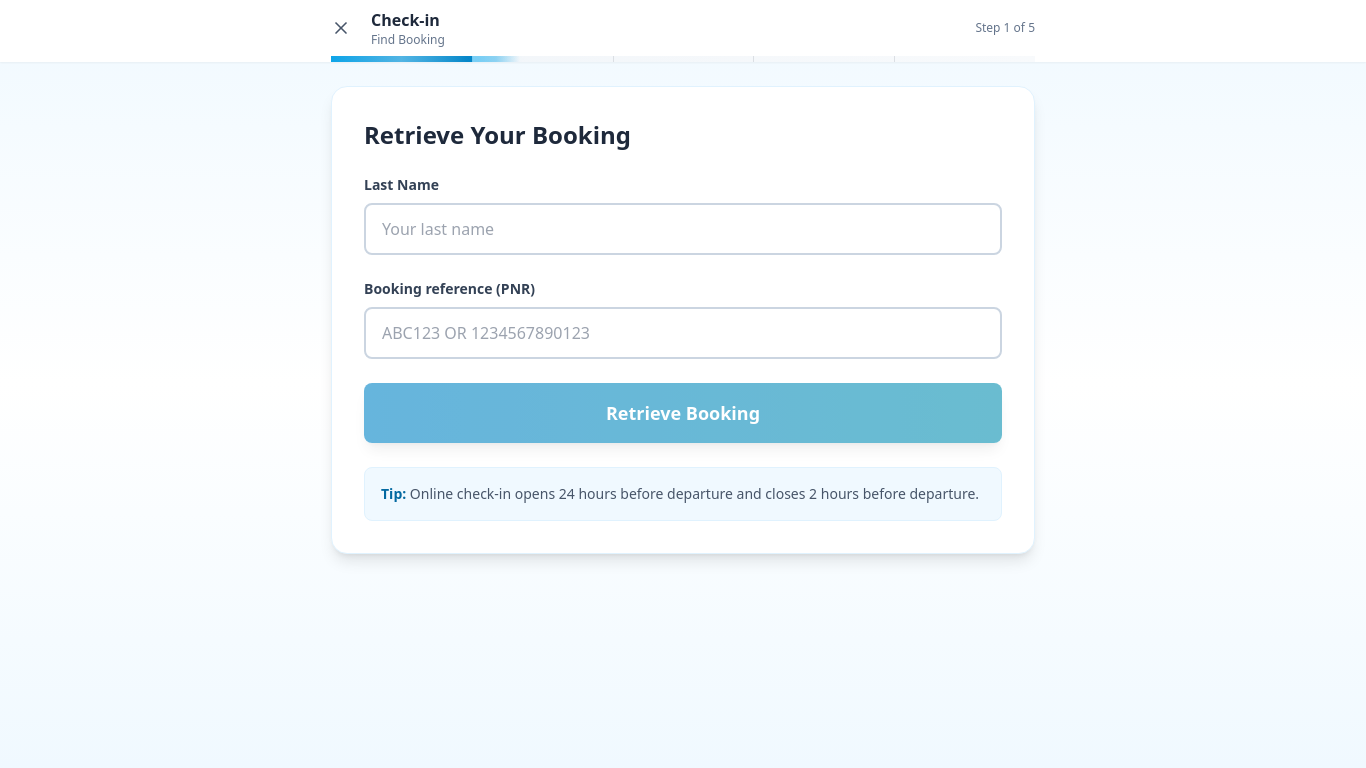
Test: CheckinFlow › opens cancel confirmation modal when cancel button is clicked
The width and height of the screenshot is (1366, 768).
Click the button named "cancel check-in" at (341, 28), box [323,10,359,46]
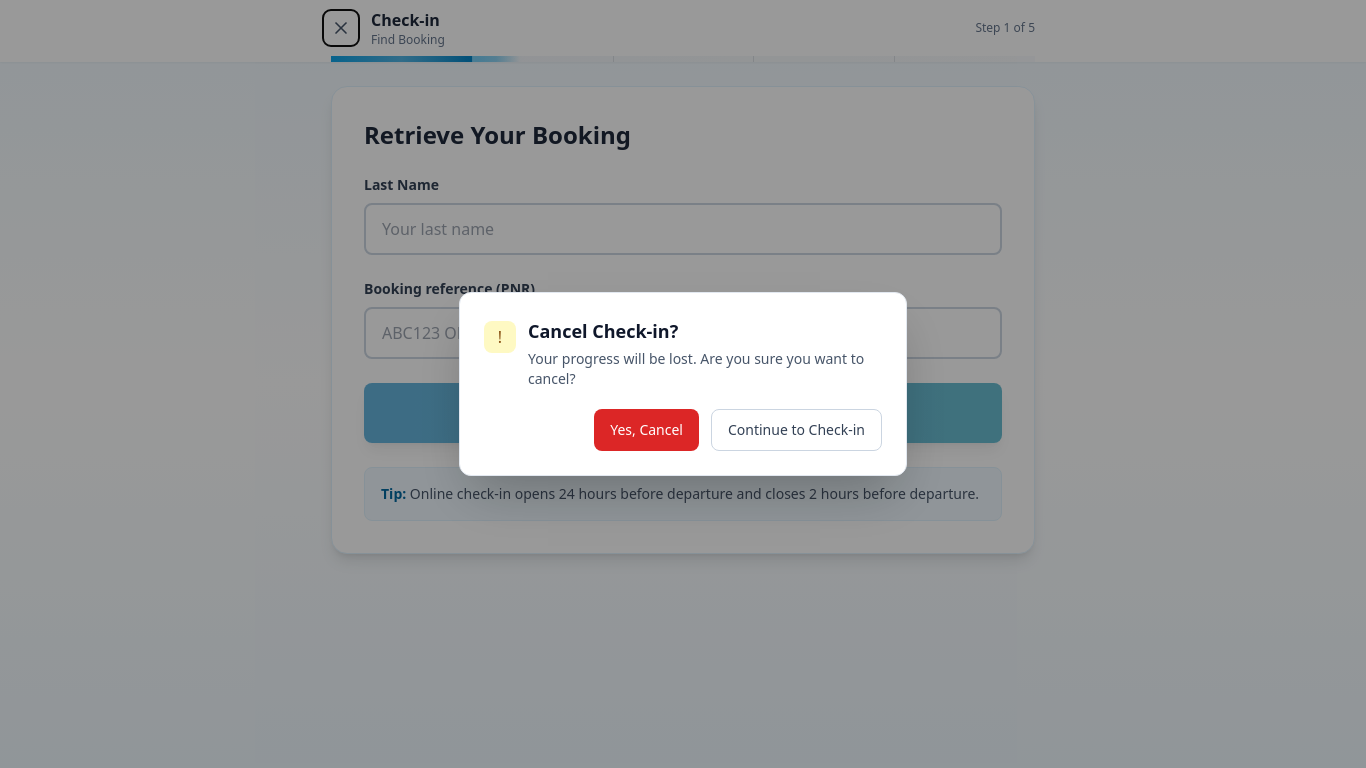
Expected: the heading "Cancel Check-in?" is shown, [528,319,678,343]
Expected: the text "Your progress will be lost. Are you sure you want to cancel?" is shown, [528,349,882,389]
Expected: the button "Yes, Cancel" is shown, [594,409,699,451]
